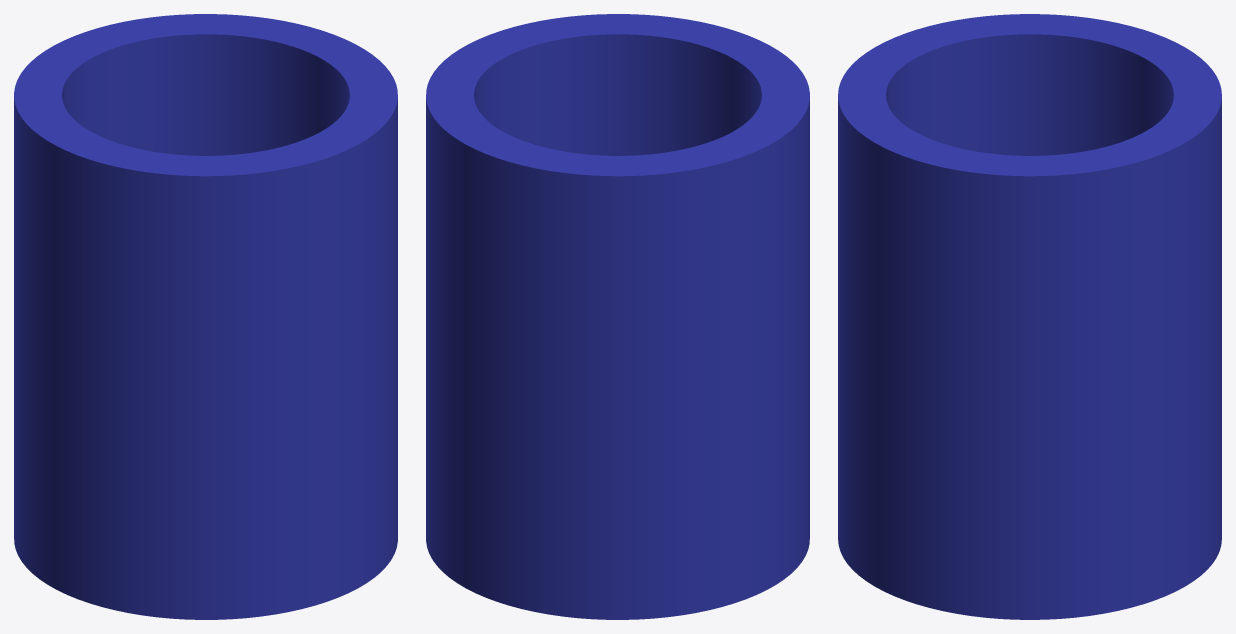
File: cylinder_paint3d.fbx
3 renders of one model, left to right at view 1: azimuth 30°, elevation 25°; view 2: azimuth 150°, elevation 25°; view 3: azimuth 270°, elevation 25°, orthographic.
Visible parts, largest first — view 1: root; view 2: root; view 3: root.
Part boxes in pixels (x1=…): root: x1=14, y1=14, x2=397, y2=619; root: x1=426, y1=14, x2=809, y2=619; root: x1=838, y1=14, x2=1221, y2=619.
Bounding box in the file's own units: 0.144 × 0.1836 × 0.144.
